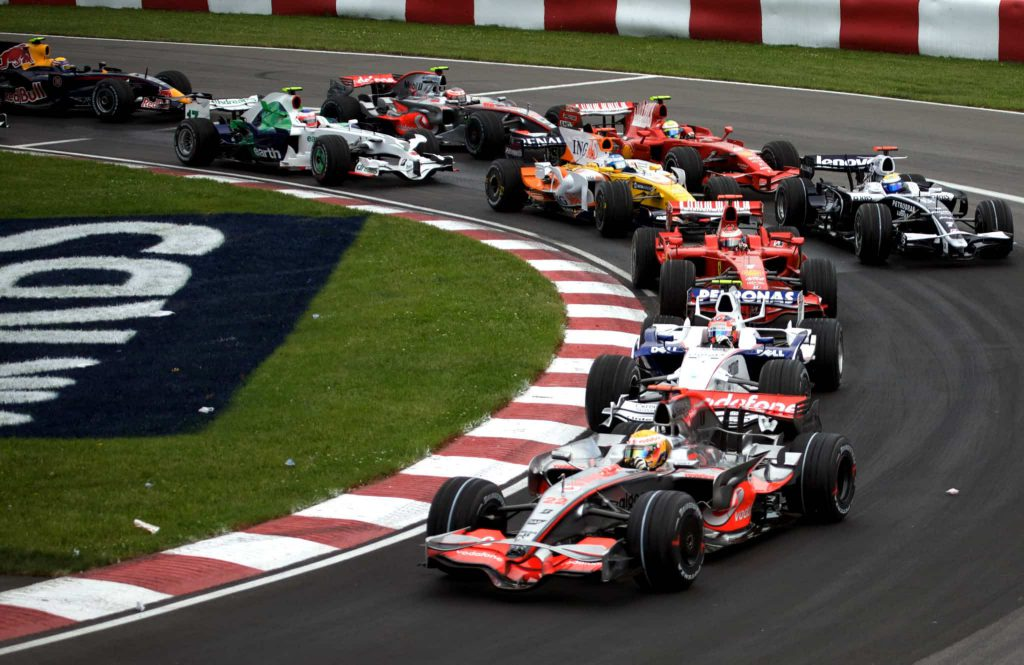f1_car: (402, 376, 871, 620), (581, 286, 854, 445), (767, 137, 1018, 288), (169, 79, 469, 198), (480, 111, 724, 246), (314, 56, 598, 167), (556, 84, 824, 200), (624, 195, 843, 332), (1, 27, 222, 137)
helmet: (620, 423, 679, 480), (701, 311, 744, 353), (712, 222, 754, 255), (439, 79, 471, 111), (875, 170, 908, 199), (601, 149, 634, 176), (294, 102, 323, 132), (657, 118, 685, 141)
